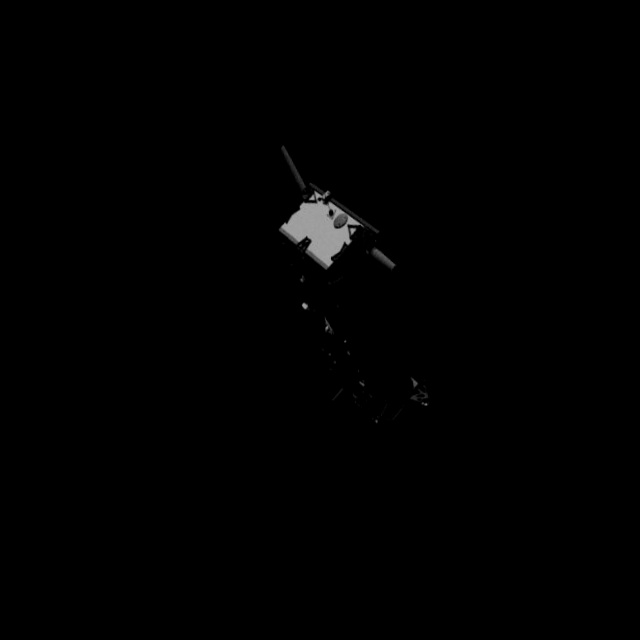satellite: (268, 120, 451, 447)
